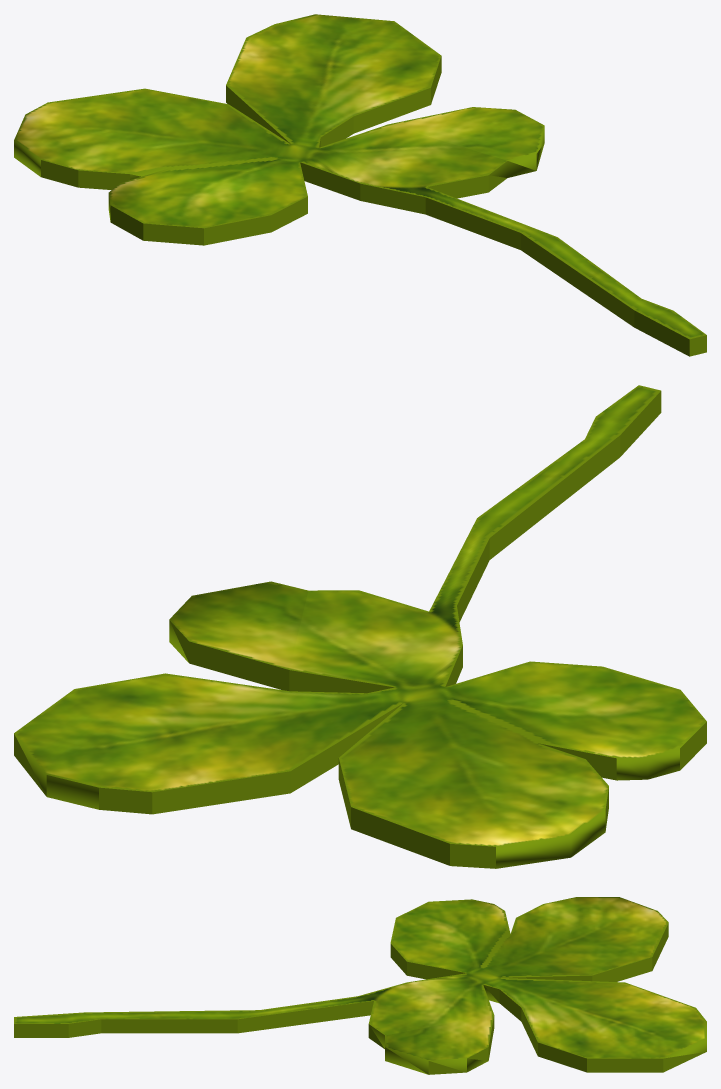
File: item_mm9_10590.glb
3 renders of one model, top to bottom at view 1: azimuth 30°, elevation 25°; view 2: azimuth 150°, elevation 25°; view 3: azimuth 270°, elevation 25°, orthographic. The views are drawn at different scales.
Visible parts, largest first — view 1: d10590; view 2: d10590; view 3: d10590.
Boxes of the visible parts, bbox=[...] form: d10590: bbox=[14, 14, 706, 356]; d10590: bbox=[14, 385, 706, 868]; d10590: bbox=[14, 897, 706, 1074].
Size of the model in its own units: 32.2 by 1.29 by 57.6.
Materials: 1 (1 with a texture image).
